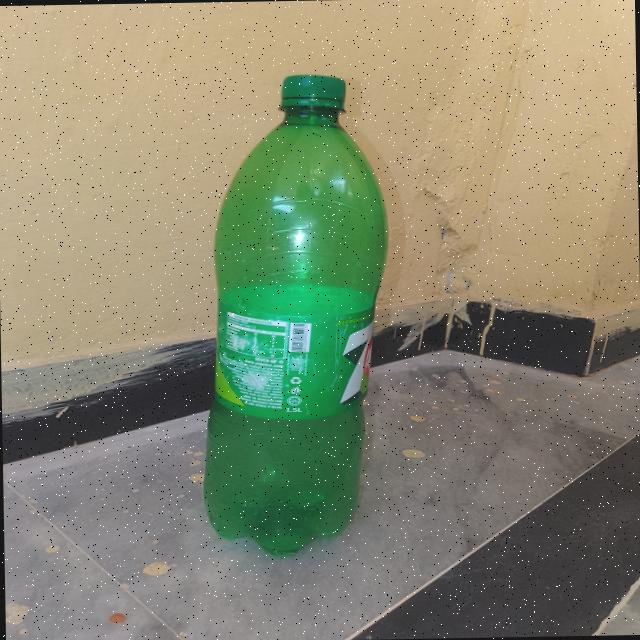bottle: (186, 56, 394, 562)
cap: (264, 64, 360, 124)
label: (219, 298, 370, 430)
